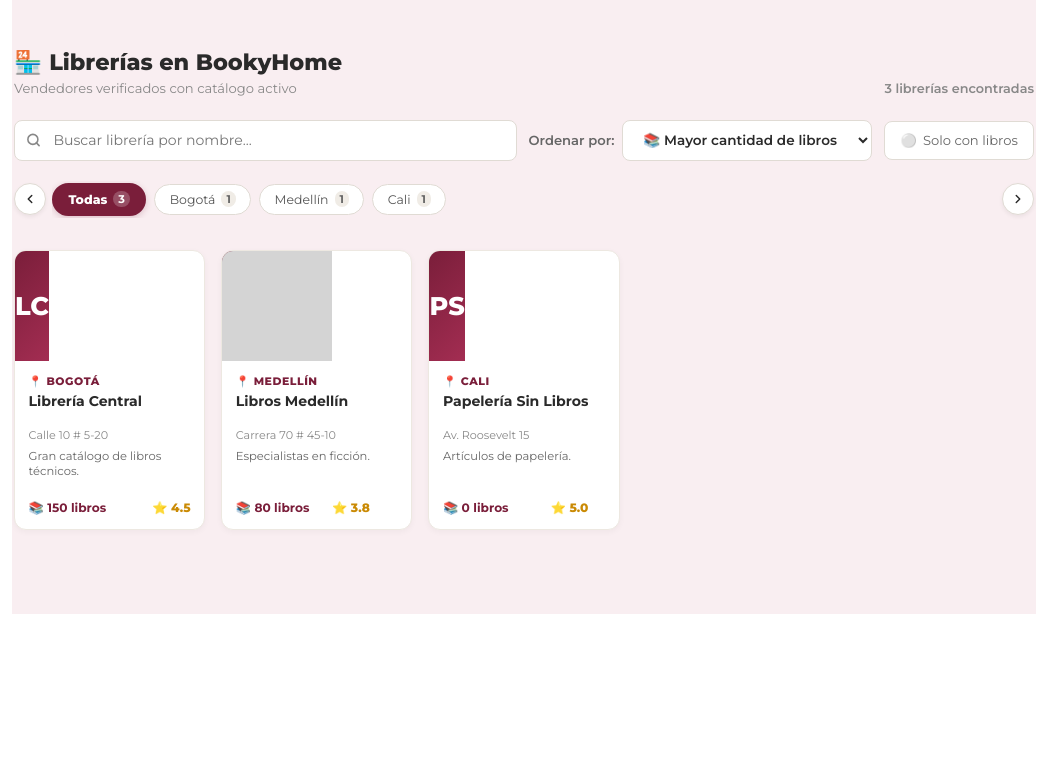
Test: Librerias — filtro por ciudad › filtra tiendas al seleccionar una ciudad
Expected: the heading "Librería Central" is shown, [29,392,142,410]
// El botón de filtro de ciudad es el que tiene aria-label vacío (no es una card)
Click the button "Medellín 1": (312,199) [259,184,364,215]
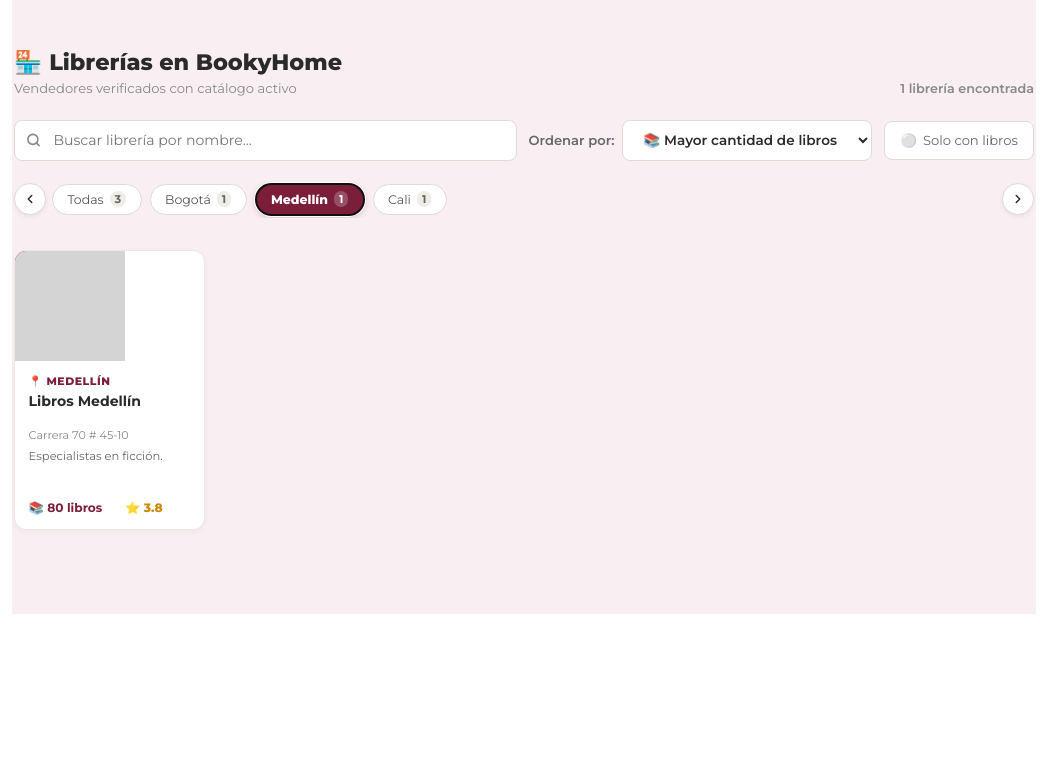
Expected: the heading "Libros Medellín" is shown, [29,392,141,410]
Now the button "Librería Central" is gone
Now the button "Papelería Sin Libros" is gone
